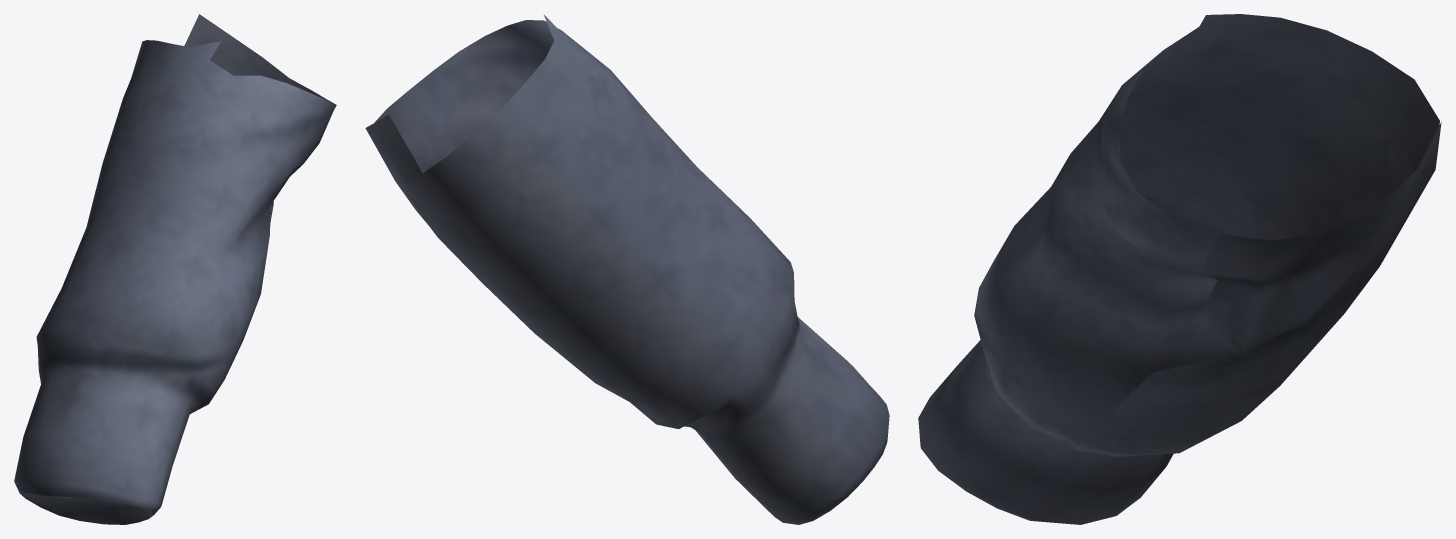
Rendered from ante_der.obj.
3 views of the same model, side by side, from view 1: azimuth 30°, elevation 25°; view 2: azimuth 150°, elevation 25°; view 3: azimuth 270°, elevation 25° (orthographic). The views are drawn at different scales.
Visible parts, largest first — view 1: node_id803.003; view 2: node_id803.003; view 3: node_id803.003.
Boxes of the visible parts, x1,y1,x2,y2 form: node_id803.003: [14, 14, 336, 524]; node_id803.003: [365, 14, 889, 524]; node_id803.003: [918, 14, 1441, 524].
Size of the model in its own units: 0.2187 by 0.2455 by 0.1843.
1 material, 1 textured.
